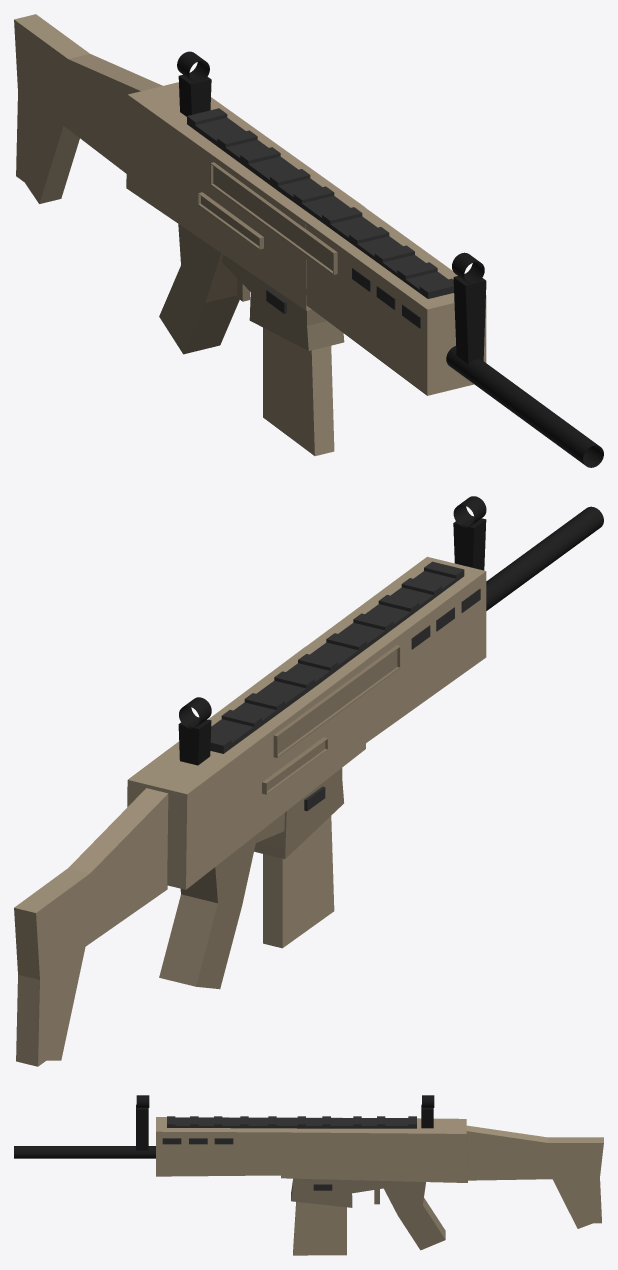
File: scar.gltf
The picture shows the model from 3 angles, top to bottom: view 1: azimuth 30°, elevation 25°; view 2: azimuth 150°, elevation 25°; view 3: azimuth 270°, elevation 25°; orthographic projection. The views are drawn at different scales.
Visible parts, largest first — view 1: Plane; view 2: Plane; view 3: Plane.
Part boxes in pixels (x1,y1,x2,y2): Plane: (14, 14, 603, 467); Plane: (14, 496, 603, 1066); Plane: (14, 1095, 603, 1255).
Bounding box in the file's own units: 0.6163 × 2.77 × 9.43.
